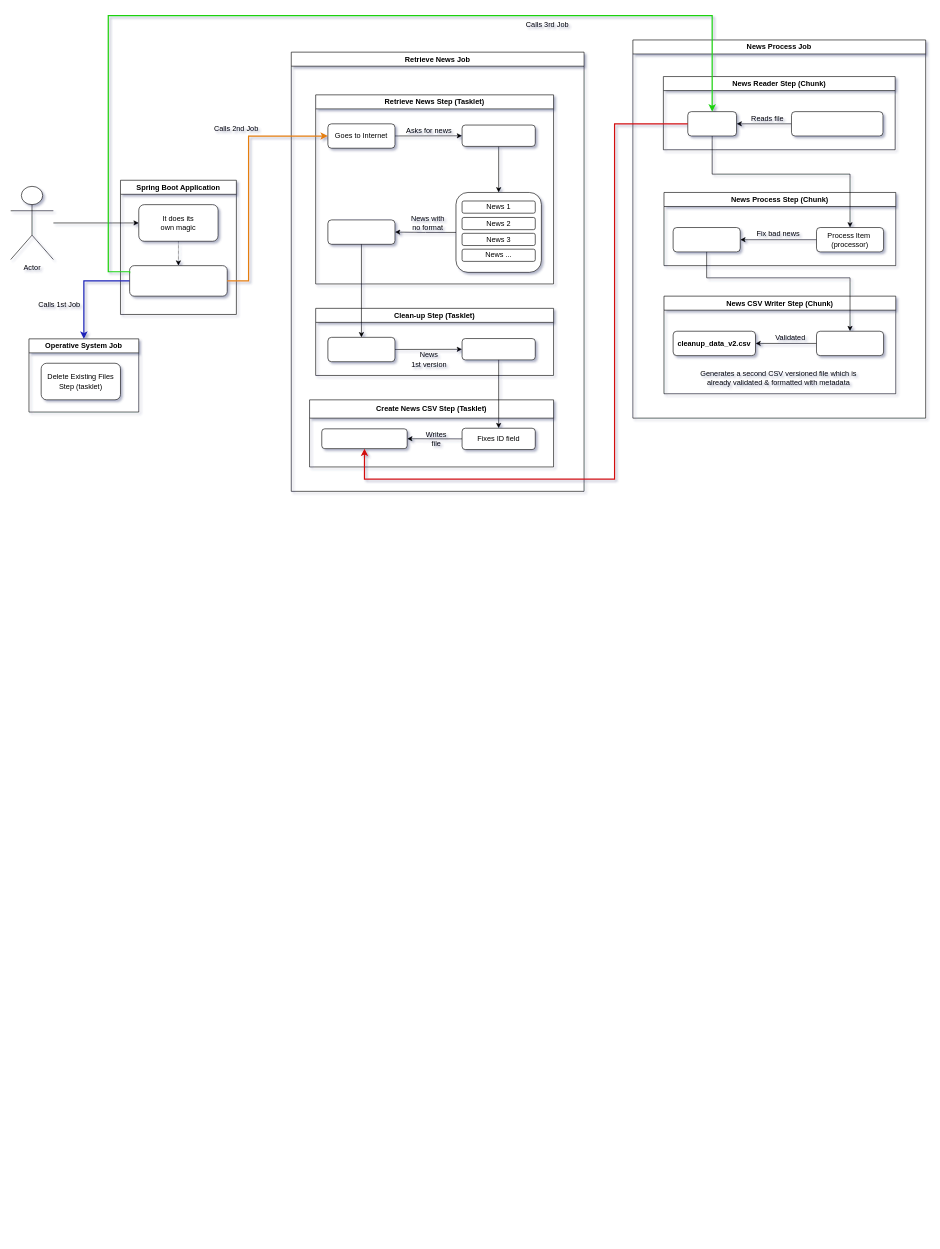
The diagram is 940 pixels wide and 1249 high, and some of its shapes have lost their labels. Here are the shapes that lost their labels. From the top down, the centre of each, then its label:
[498,135]: News Site
[712,123]: This file
[837,123]: FlatFileItemReader (reader)
[361,231]: Collected news
[706,239]: Some metadata is added
[178,280]: ApplicationJobsLauncher (CommandLineRunner)
[361,349]: Removes null values
[498,349]: Prepares fields
[850,343]: Write Item (CSV writer)
[364,438]: cleanup_data_v1.csv
